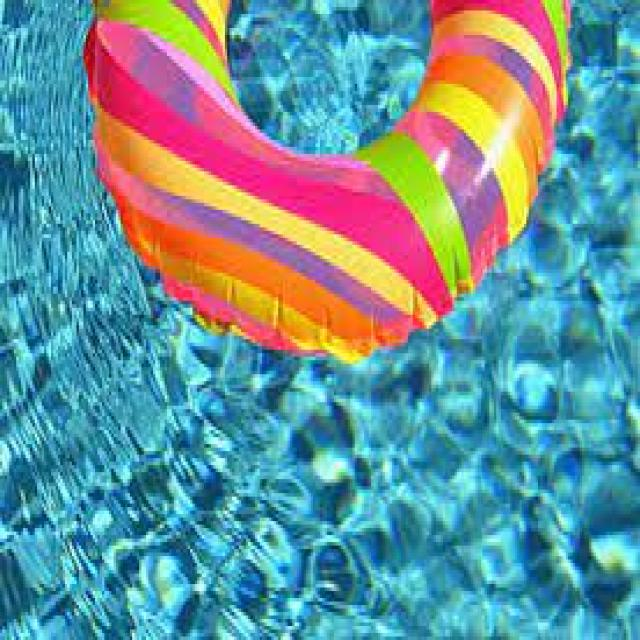lifesaver: (86, 0, 571, 365)
